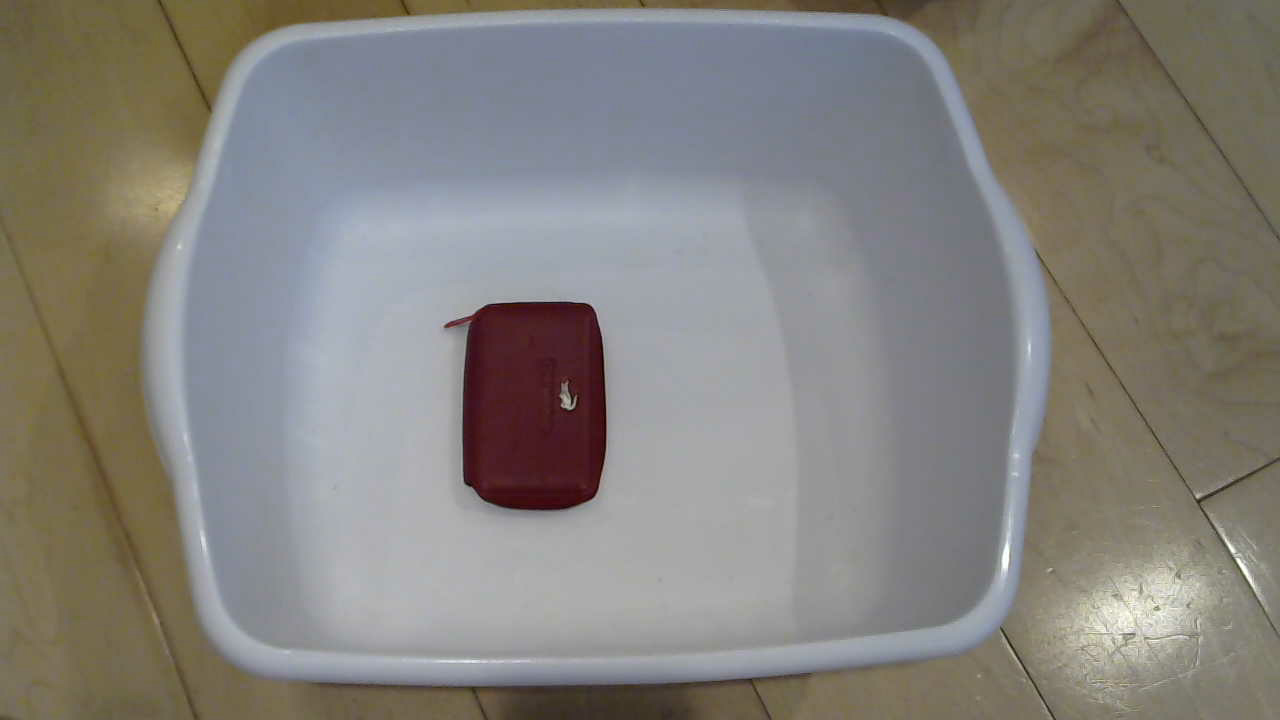wallet: (442, 295, 630, 526)
